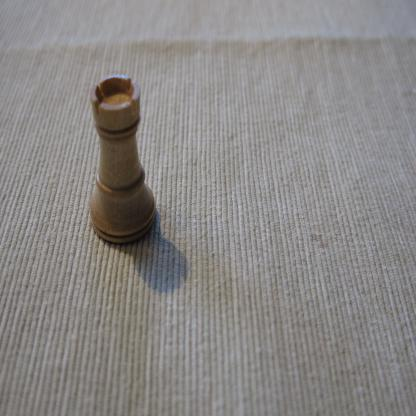white-rook: (89, 73, 156, 248)
